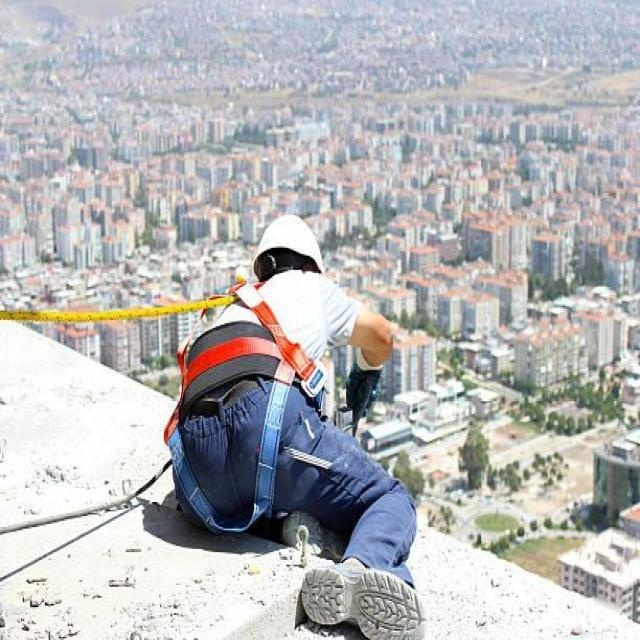Arnes_seguridad: (164, 273, 326, 537)
